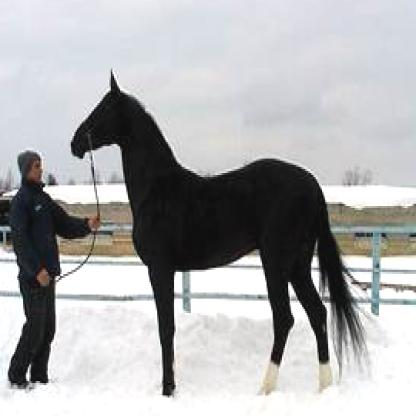horse: (68, 68, 366, 402)
